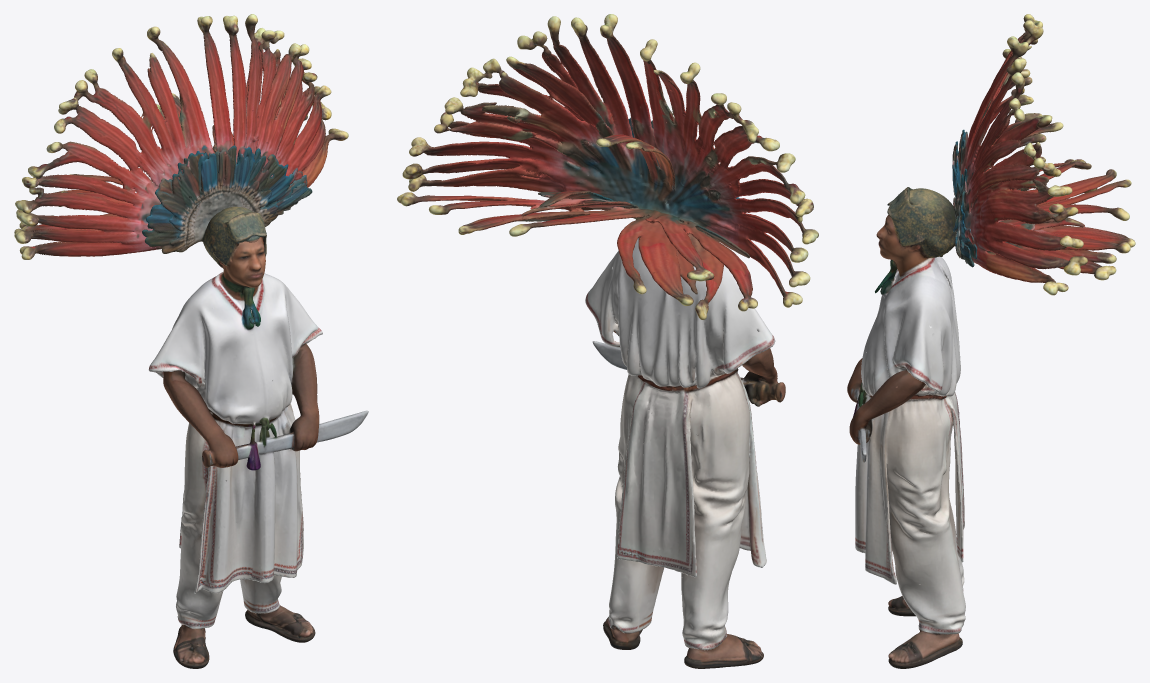
Rendered from machetero.glb.
3 renders of one model, left to right at view 1: azimuth 30°, elevation 25°; view 2: azimuth 150°, elevation 25°; view 3: azimuth 270°, elevation 25°, orthographic. The views are drawn at different scales.
Visible parts, largest first — view 1: tripo_node_fbfbcbee-4ddd-4e81-a3fd-15735fbf49ff; view 2: tripo_node_fbfbcbee-4ddd-4e81-a3fd-15735fbf49ff; view 3: tripo_node_fbfbcbee-4ddd-4e81-a3fd-15735fbf49ff.
Boxes of the visible parts, x1,y1,x2,y2 form: tripo_node_fbfbcbee-4ddd-4e81-a3fd-15735fbf49ff: (14,14,368,668); tripo_node_fbfbcbee-4ddd-4e81-a3fd-15735fbf49ff: (397,14,818,668); tripo_node_fbfbcbee-4ddd-4e81-a3fd-15735fbf49ff: (847,14,1135,668).
Bounding box in the file's own units: 0.6075 × 1 × 0.4297.
Materials: 1 (1 with a texture image).
